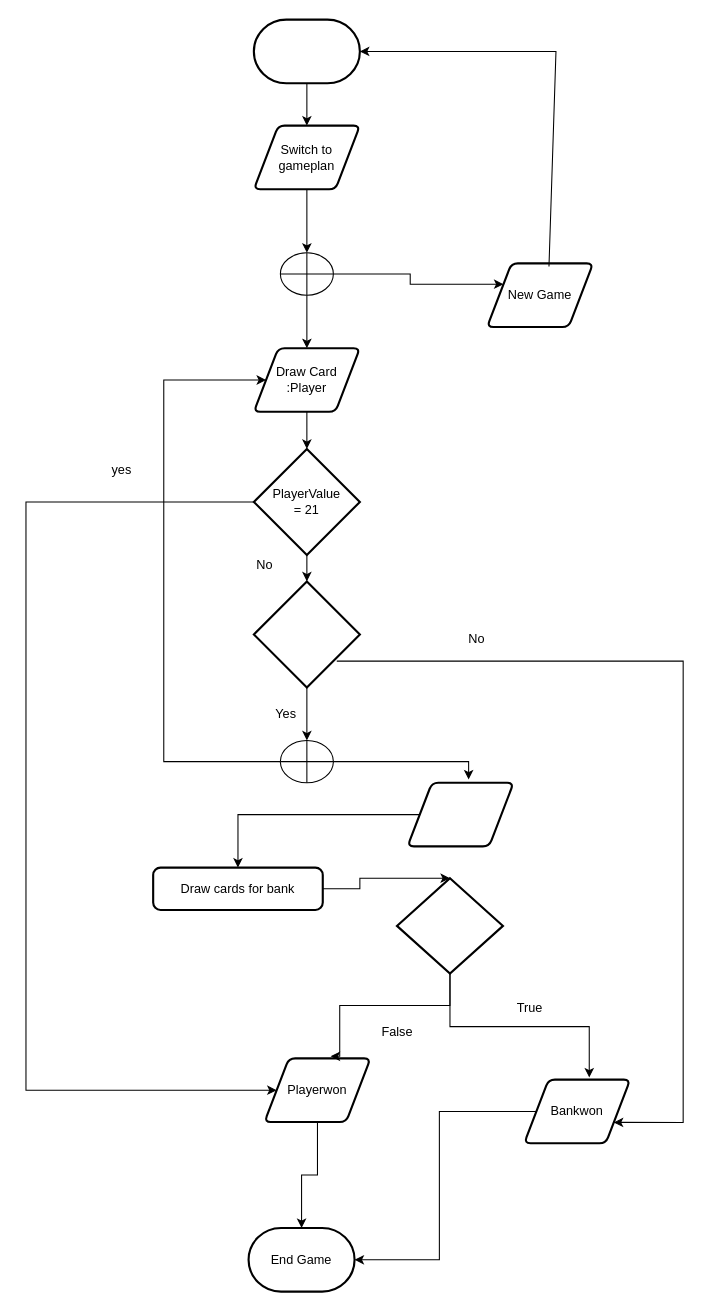
Some shapes in this 710 by 1310 pixel diagram are drawn without their labels. Each missing label, with the centre of its shape:
"BankPlay" belongs at point 460,814.
"Game Play" belongs at point 306,51.
"PlayerVAlue <21" belongs at point 306,634.
"Playervalue =<bankValue" belongs at point 449,925.
